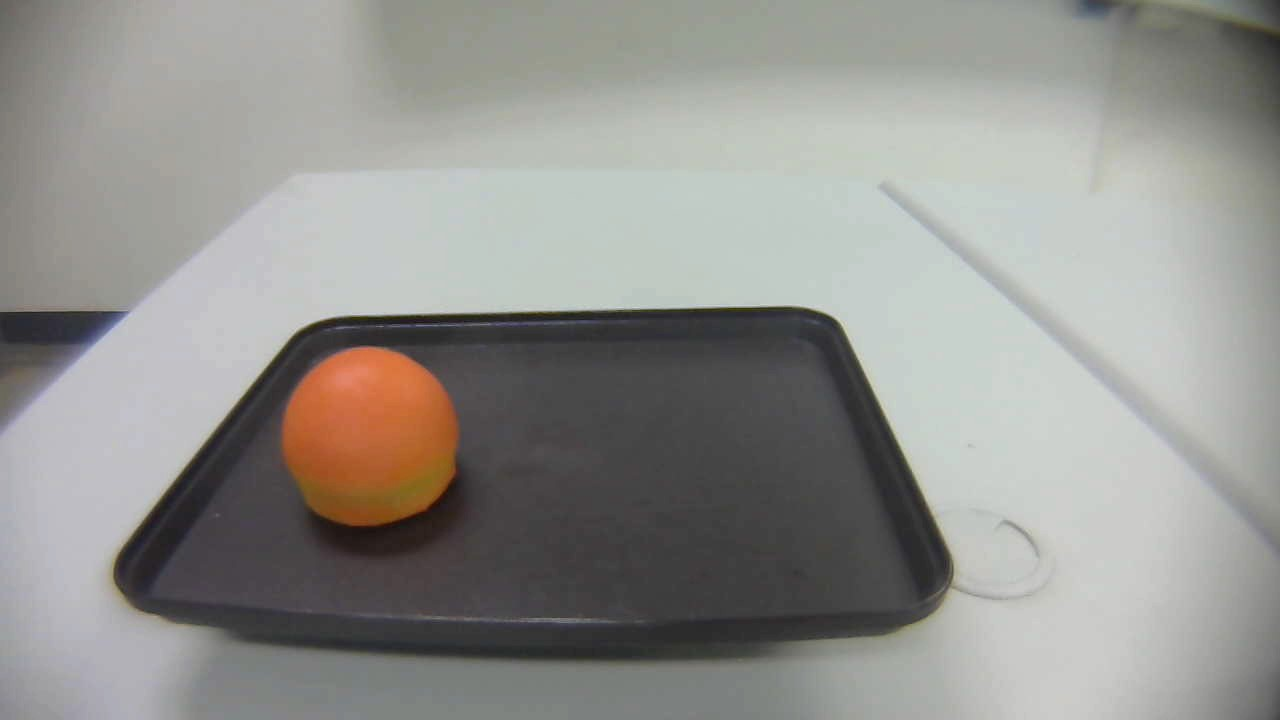bun: (282, 345, 459, 529)
